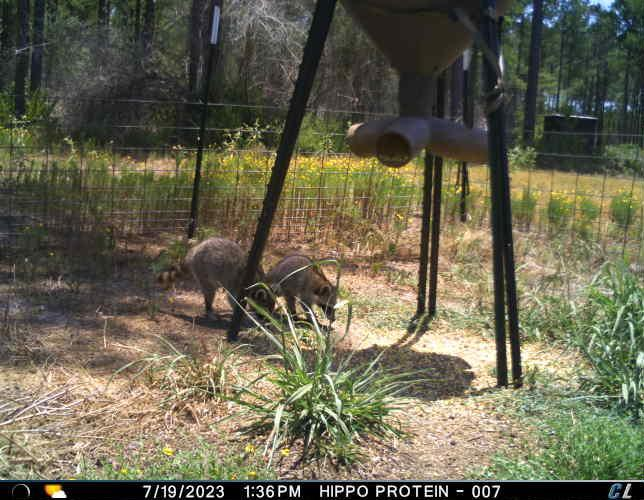Raccoon: (153, 233, 272, 318), (266, 251, 341, 330)
